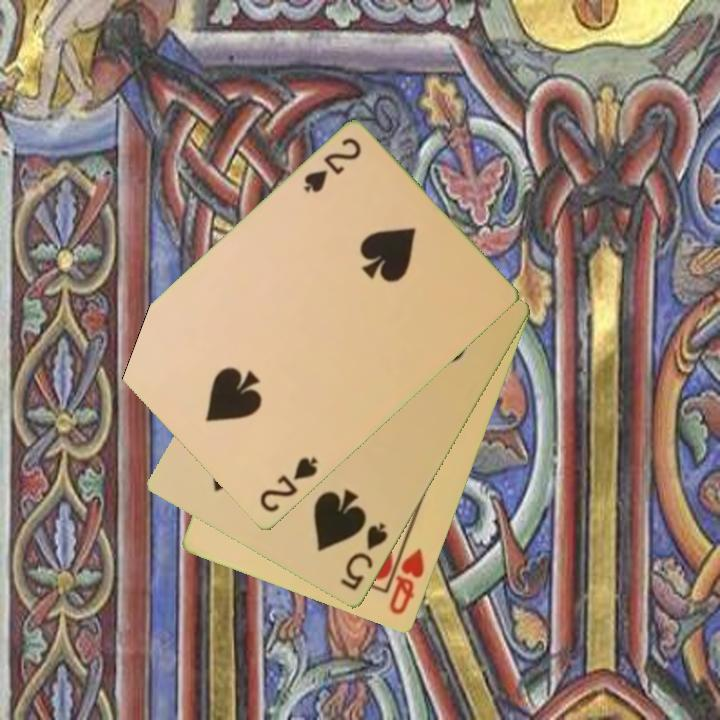2s: (256, 454, 321, 516), (300, 135, 365, 197)
5s: (337, 519, 391, 594)
Qh: (386, 545, 428, 618)
